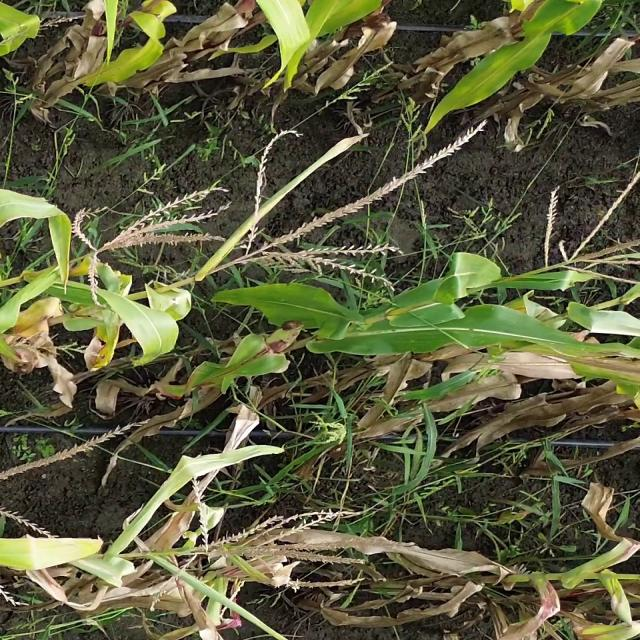northern-leaf-blight: (568, 343, 640, 382)
